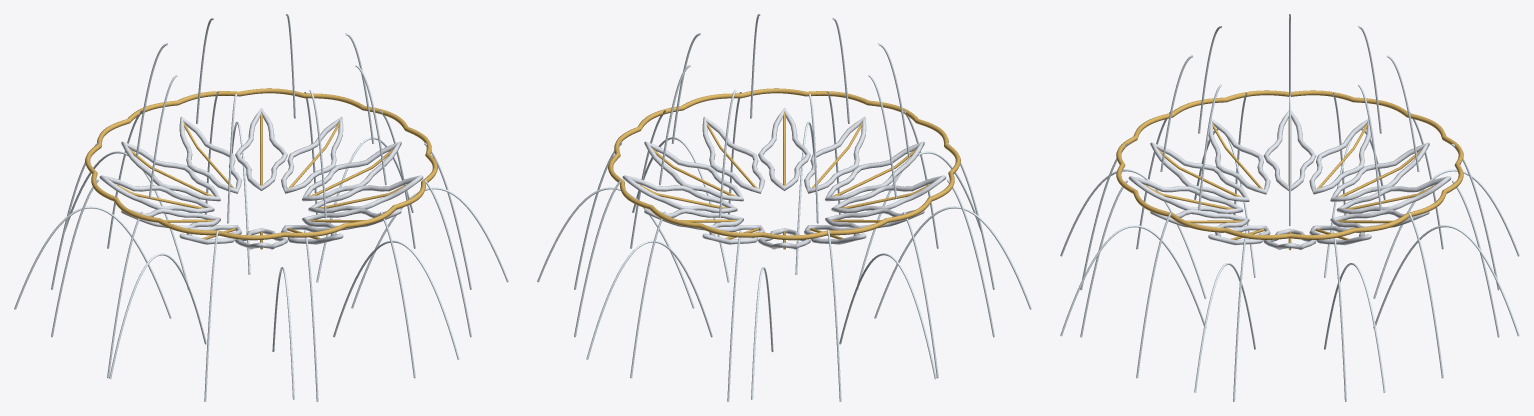
File: KRM_STATIC_071.fbx
The picture shows the model from 3 angles, left to right: view 1: azimuth 30°, elevation 25°; view 2: azimuth 150°, elevation 25°; view 3: azimuth 270°, elevation 25°; orthographic projection.
Visible parts, largest first — view 1: KRM_STATIC_071; view 2: KRM_STATIC_071; view 3: KRM_STATIC_071.
Boxes of the visible parts, x1,y1,x2,y2 form: KRM_STATIC_071: (14,14,508,401); KRM_STATIC_071: (537,14,1031,401); KRM_STATIC_071: (1060,14,1519,401).
Bounding box in the file's own units: 393 × 244 × 393.
1 material, 1 textured.
